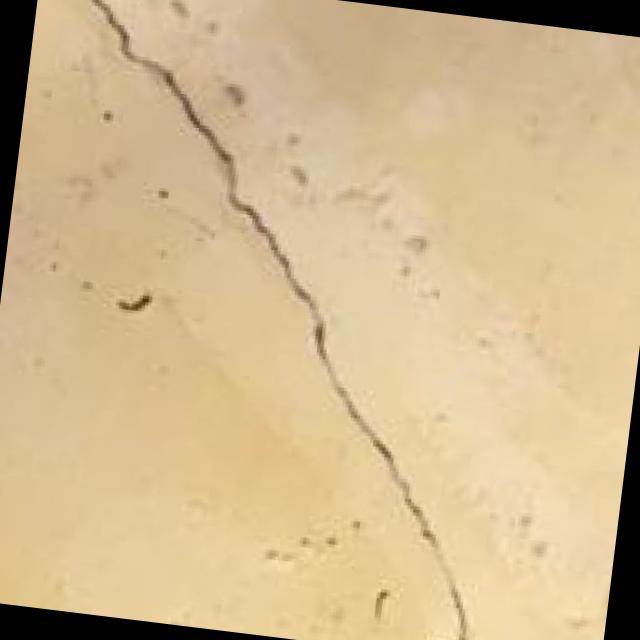crack: (0, 0, 489, 526)
